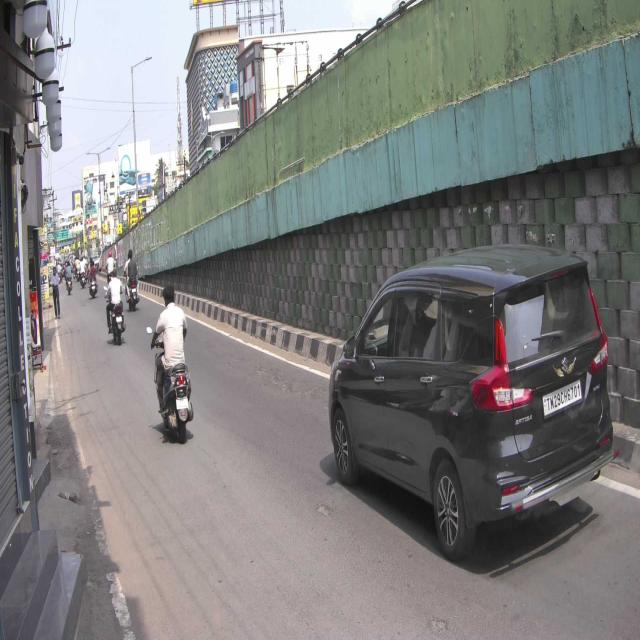single_rider: (148, 284, 196, 442)
